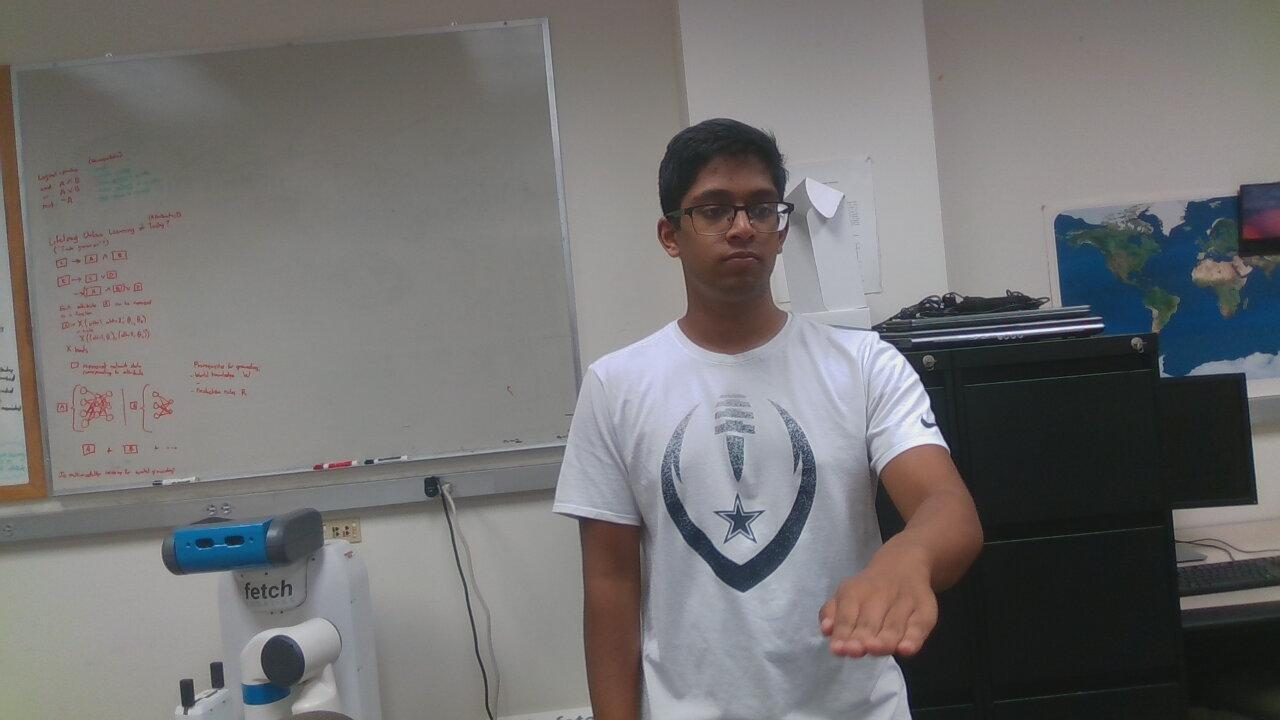hands: (798, 561, 966, 683)
